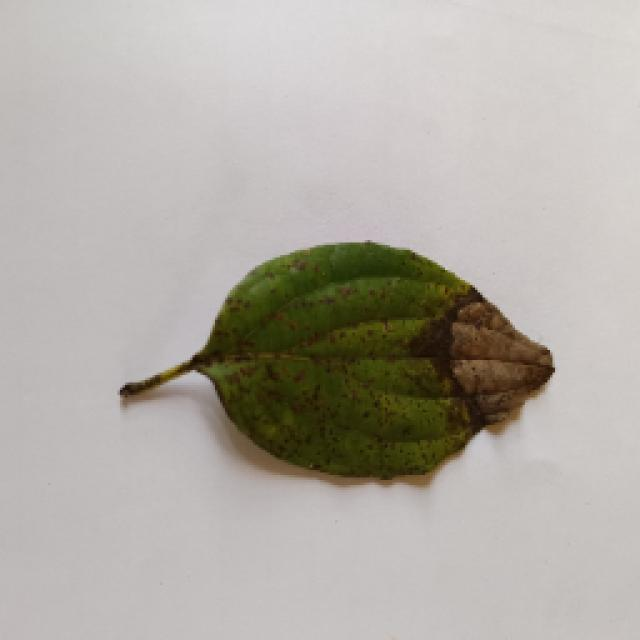footrot: (120, 235, 555, 477)
